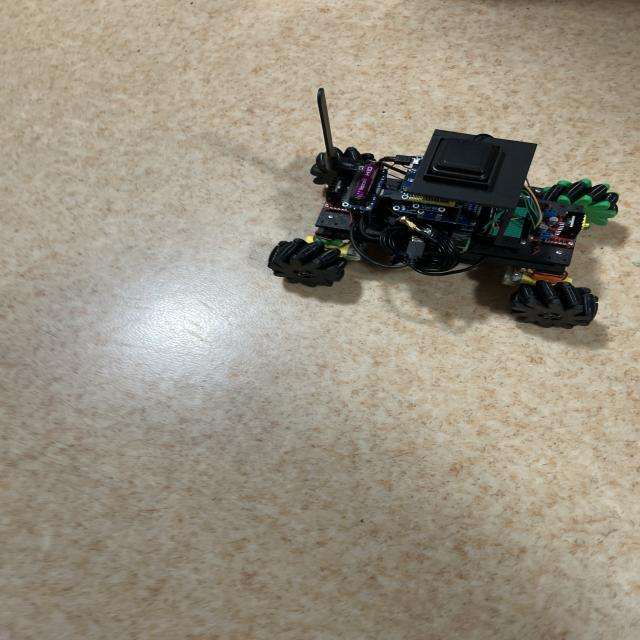robot: (268, 89, 619, 329)
